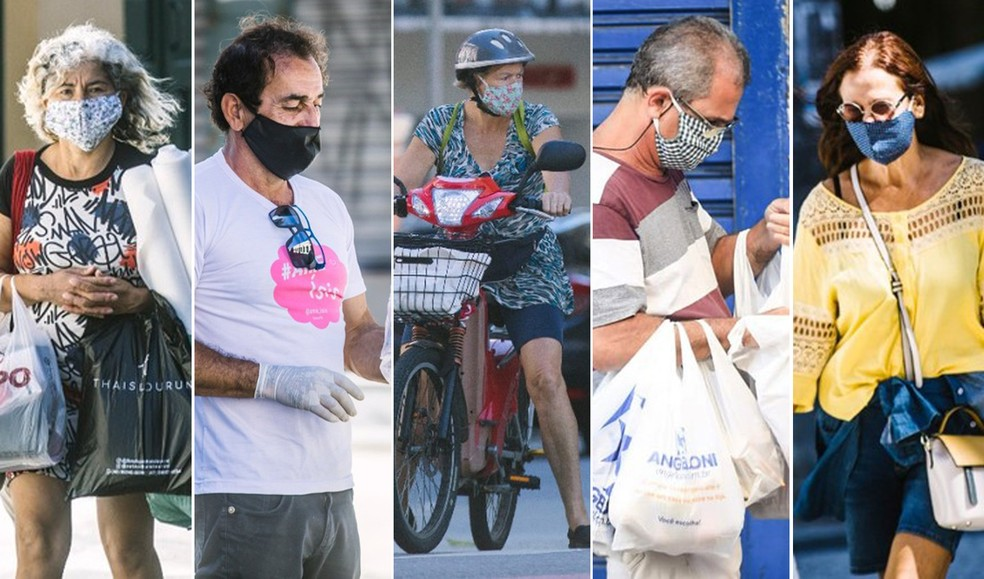with_mask: (230, 59, 333, 183), (649, 82, 737, 177), (42, 71, 127, 150), (840, 83, 917, 164), (478, 66, 524, 118)
